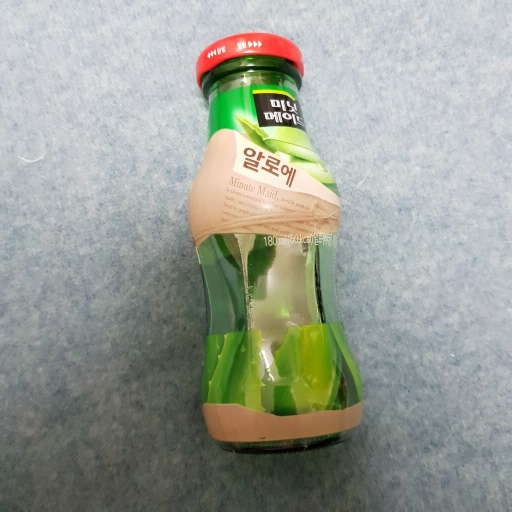Glass_4: (185, 24, 369, 456)
